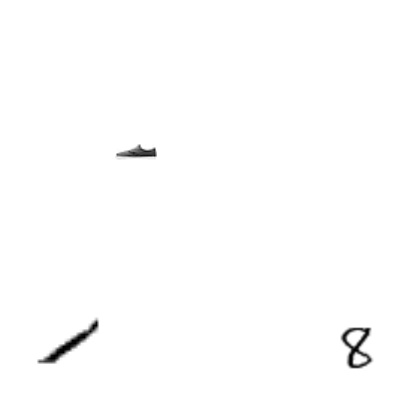Dress: (96, 183, 118, 205)
Sandal: (225, 287, 253, 315)
Shirt: (241, 102, 353, 214)
